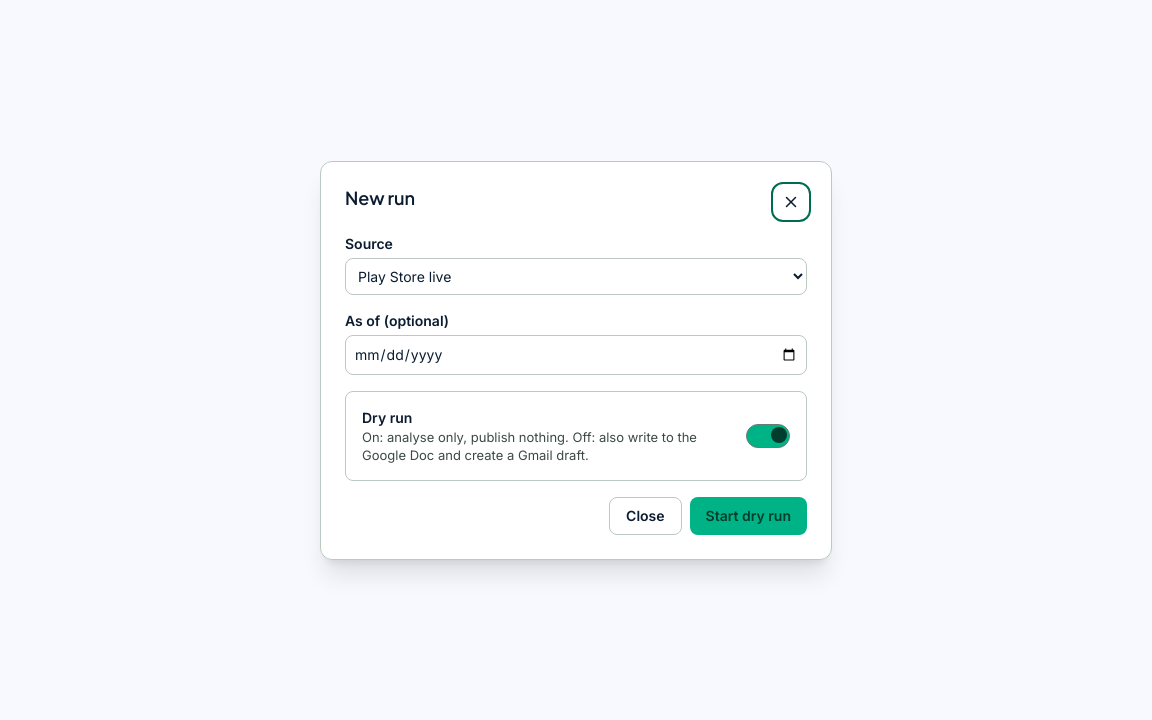
it: RunControl › publishing › names the week on the confirm button
What coordinates should you click on to do the following:
click the switch named "dry run"
I would click on:
 (768, 436)
Its box is [746,424,790,448].
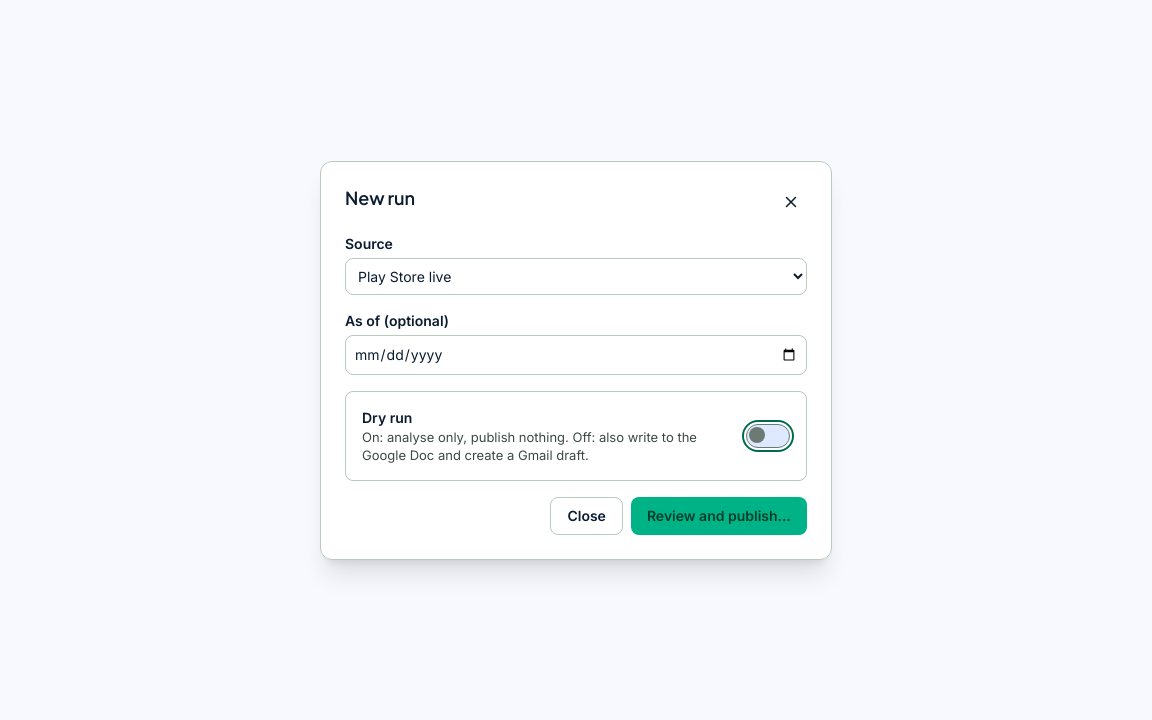
What coordinates should you click on to do the following:
click the button "Review and publish…"
I would click on:
 (719, 516)
Its box is [631,496,807,534].
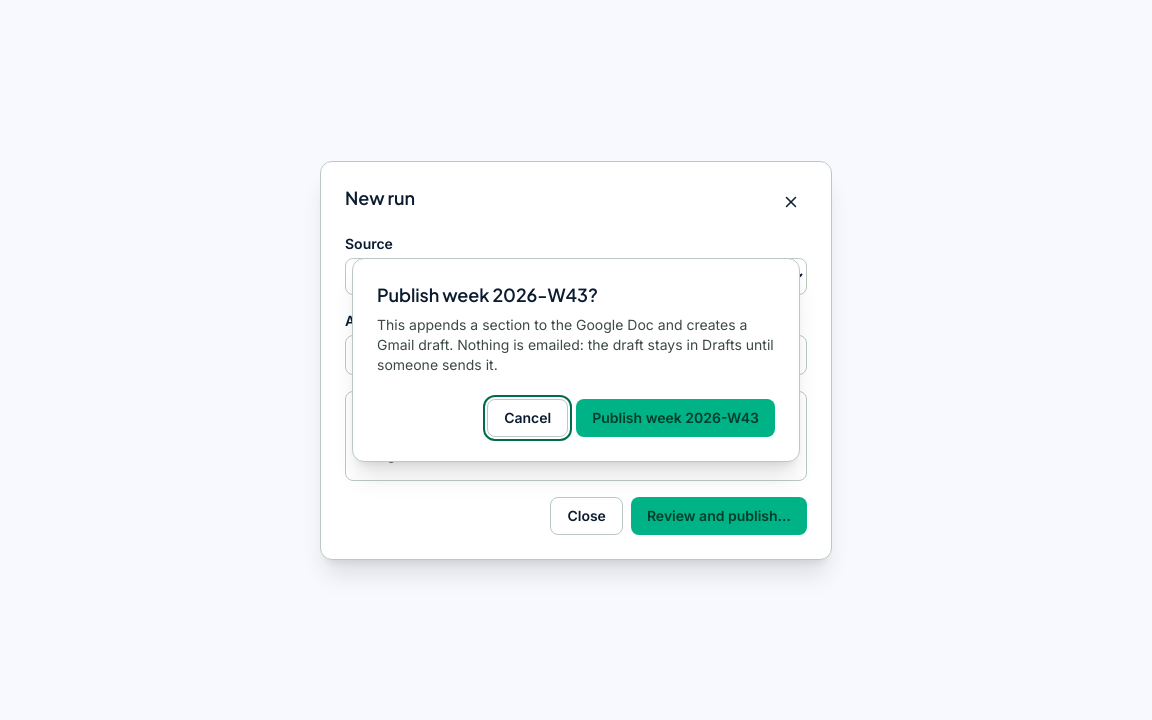
Expected: the button "Publish week 2026-W43" is shown, [576,399,775,437]
